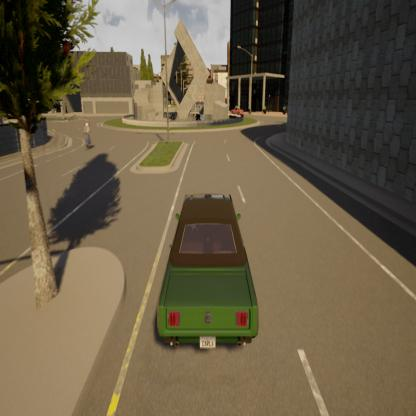Cars: (147, 185, 263, 356), (230, 106, 244, 118)
